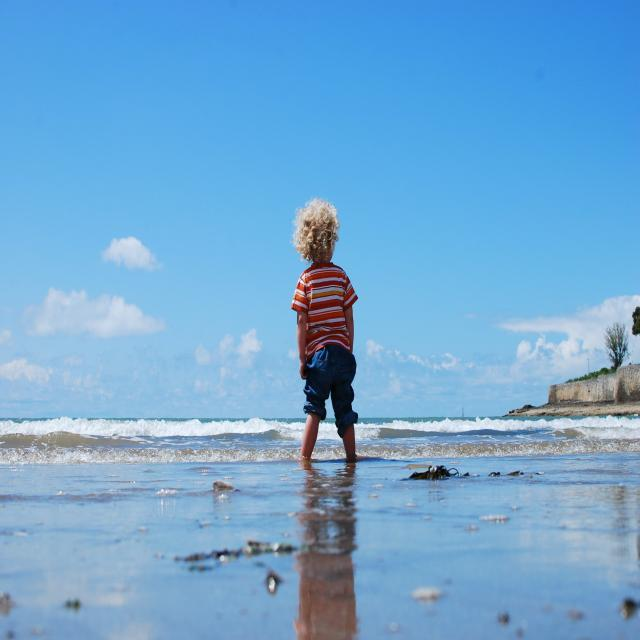non-dog: (291, 200, 361, 464)
